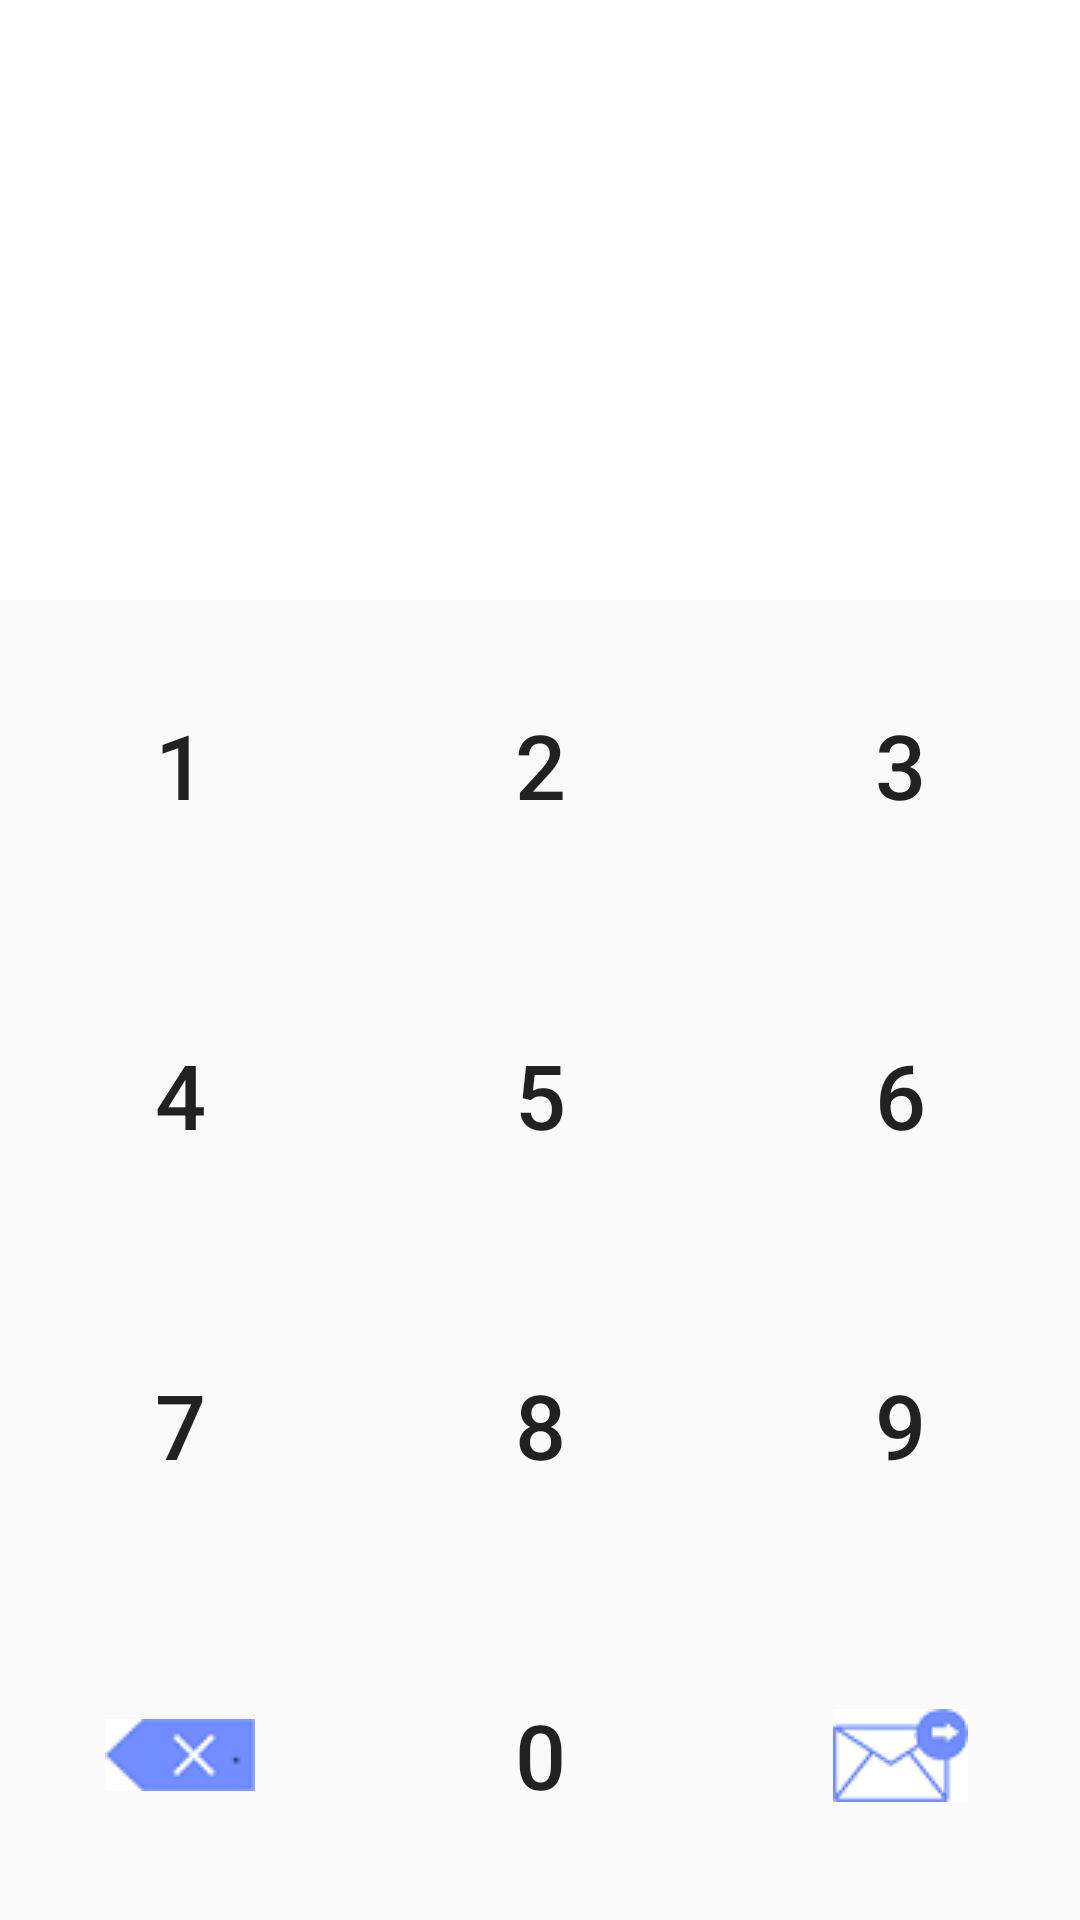

Icons on this 1080 x 1920 Android screen, each with the point to tap as point (x, y):
delete: point (180, 1755)
send: point (900, 1755)
